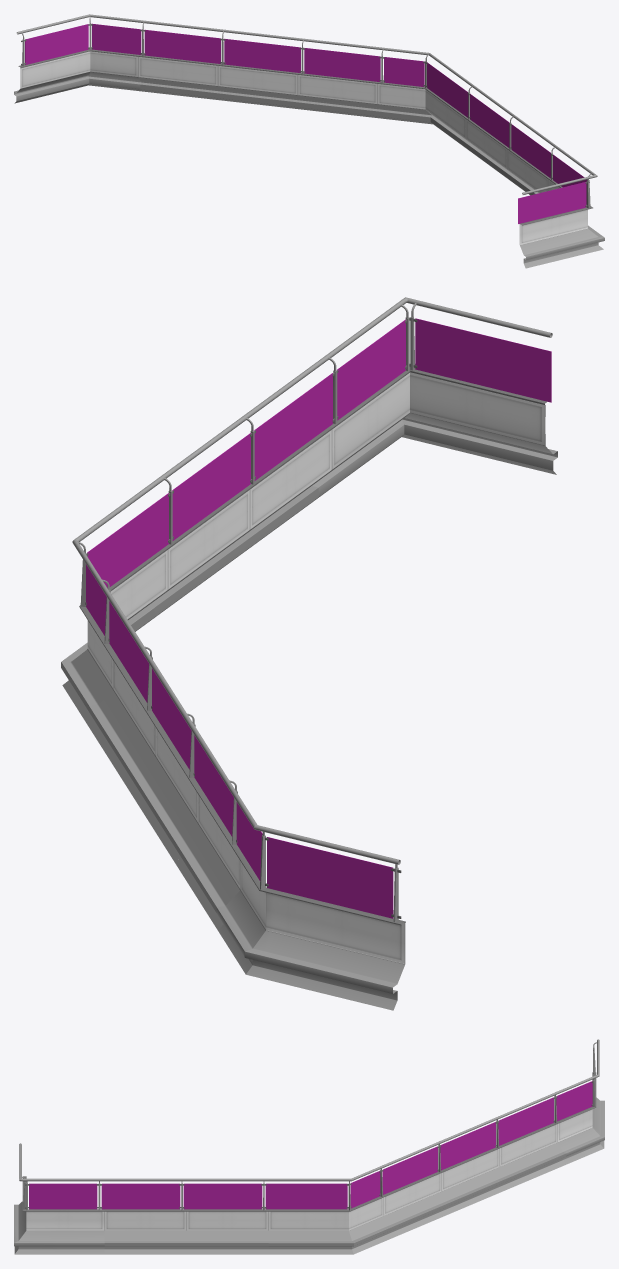
Rendered from SM_BalconiesComplete2.FBX.
The picture shows the model from 3 angles, top to bottom: view 1: azimuth 30°, elevation 25°; view 2: azimuth 150°, elevation 25°; view 3: azimuth 270°, elevation 25°; orthographic projection. The views are drawn at different scales.
Parts seen in each view (by area): view 1: Balcony2_RightTopCorner, FlatBalcony062, Balcony_RightBottom001, FlatBalcony057, FlatBalcony058, FlatBalcony059, FlatBalcony056, FlatBalcony055; view 2: FlatBalcony062, Balcony2_RightTopCorner, Balcony_RightBottom001, FlatBalcony055, FlatBalcony056, FlatBalcony058, FlatBalcony057, FlatBalcony059; view 3: Balcony_RightBottom001, FlatBalcony062, FlatBalcony055, FlatBalcony056, FlatBalcony059, FlatBalcony057, FlatBalcony058, Balcony2_RightTopCorner.
Part boxes in pixels (x1,y1,x2,y2): Balcony2_RightTopCorner: [14, 14, 141, 103]; FlatBalcony062: [518, 144, 604, 268]; Balcony_RightBottom001: [377, 47, 475, 153]; FlatBalcony057: [297, 38, 380, 118]; FlatBalcony058: [218, 29, 300, 109]; FlatBalcony059: [138, 20, 221, 100]; FlatBalcony056: [465, 83, 516, 184]; FlatBalcony055: [507, 113, 553, 195]; FlatBalcony062: [312, 297, 557, 501]; Balcony2_RightTopCorner: [216, 783, 405, 1010]; Balcony_RightBottom001: [61, 479, 168, 729]; FlatBalcony055: [230, 359, 332, 560]; FlatBalcony056: [148, 419, 250, 621]; FlatBalcony058: [131, 649, 197, 863]; FlatBalcony057: [89, 582, 155, 795]; FlatBalcony059: [174, 716, 240, 929]; Balcony_RightBottom001: [265, 1163, 392, 1254]; FlatBalcony062: [14, 1143, 104, 1254]; FlatBalcony055: [101, 1178, 186, 1254]; FlatBalcony056: [183, 1178, 268, 1254]; FlatBalcony059: [498, 1090, 566, 1188]; FlatBalcony057: [382, 1139, 450, 1238]; FlatBalcony058: [440, 1114, 508, 1213]; Balcony2_RightTopCorner: [556, 1039, 604, 1164].
Bounding box in the file's own units: 12.31 × 2.95 × 21.63.
